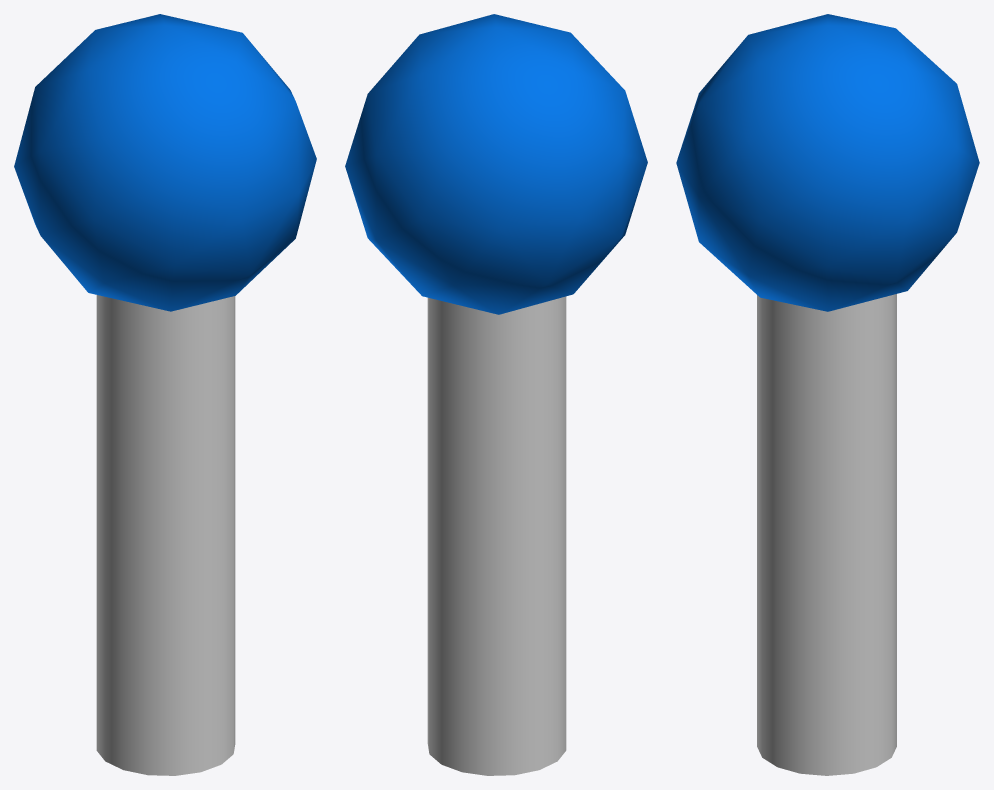
File: tree.fbx
3 renders of one model, left to right at view 1: azimuth 30°, elevation 25°; view 2: azimuth 150°, elevation 25°; view 3: azimuth 270°, elevation 25°, orthographic.
Visible parts, largest first — view 1: tree; view 2: tree; view 3: tree.
Part boxes in pixels (bbox=[...]): tree: bbox=[14, 14, 316, 775]; tree: bbox=[345, 14, 647, 775]; tree: bbox=[676, 14, 979, 775].
Size of the model in its own units: 442 by 1218 by 465.
